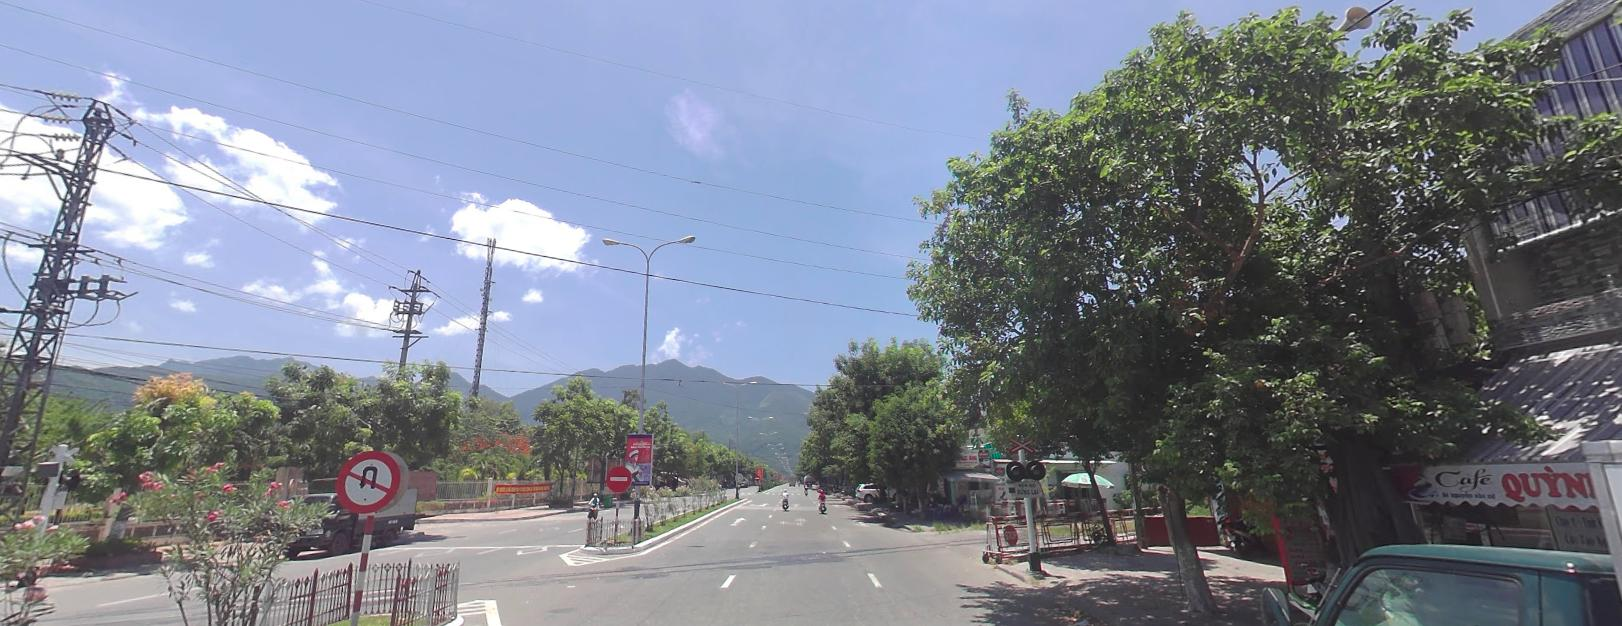Cam nguoc chieu: (604, 465, 635, 493)
Cam re: (328, 439, 407, 518)
